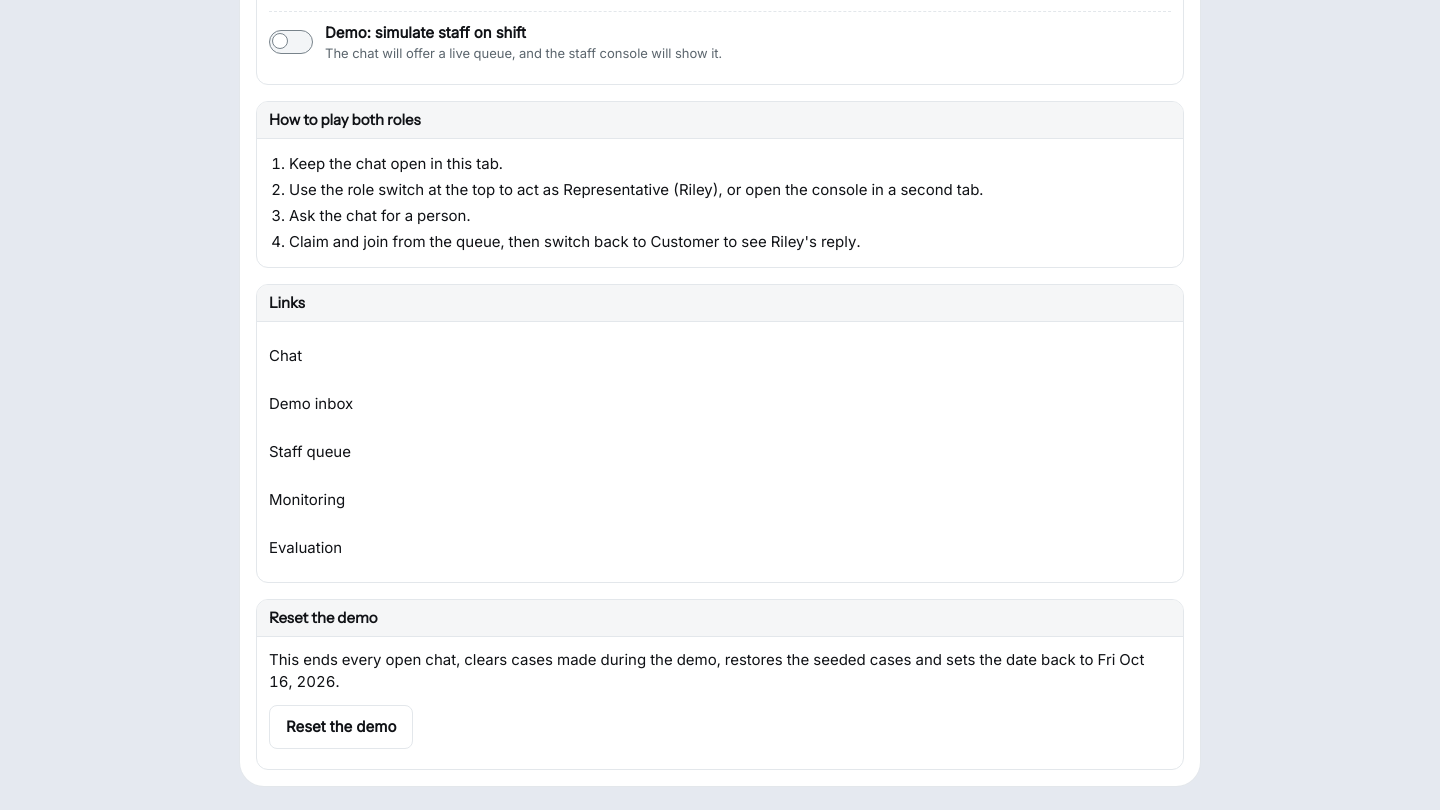
Test: Scr03 demo guide › reset failure: exact line, button enabled again
The width and height of the screenshot is (1440, 810).
(page scrolled)
Click the button "Reset the demo". click: (341,727)
box: [269,705,413,749]
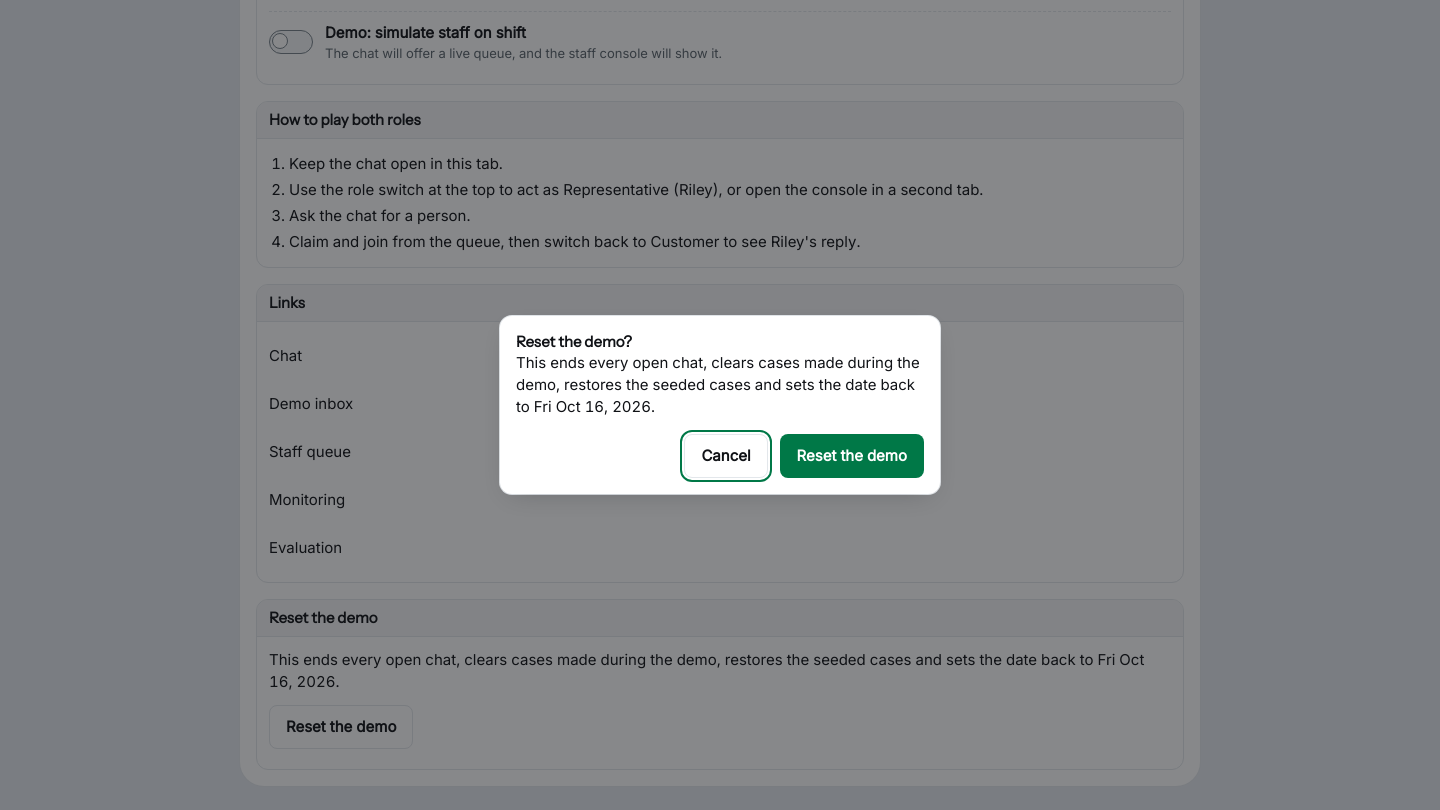
Click the button "Reset the demo". click: (852,456)
box: [780,434,924,478]
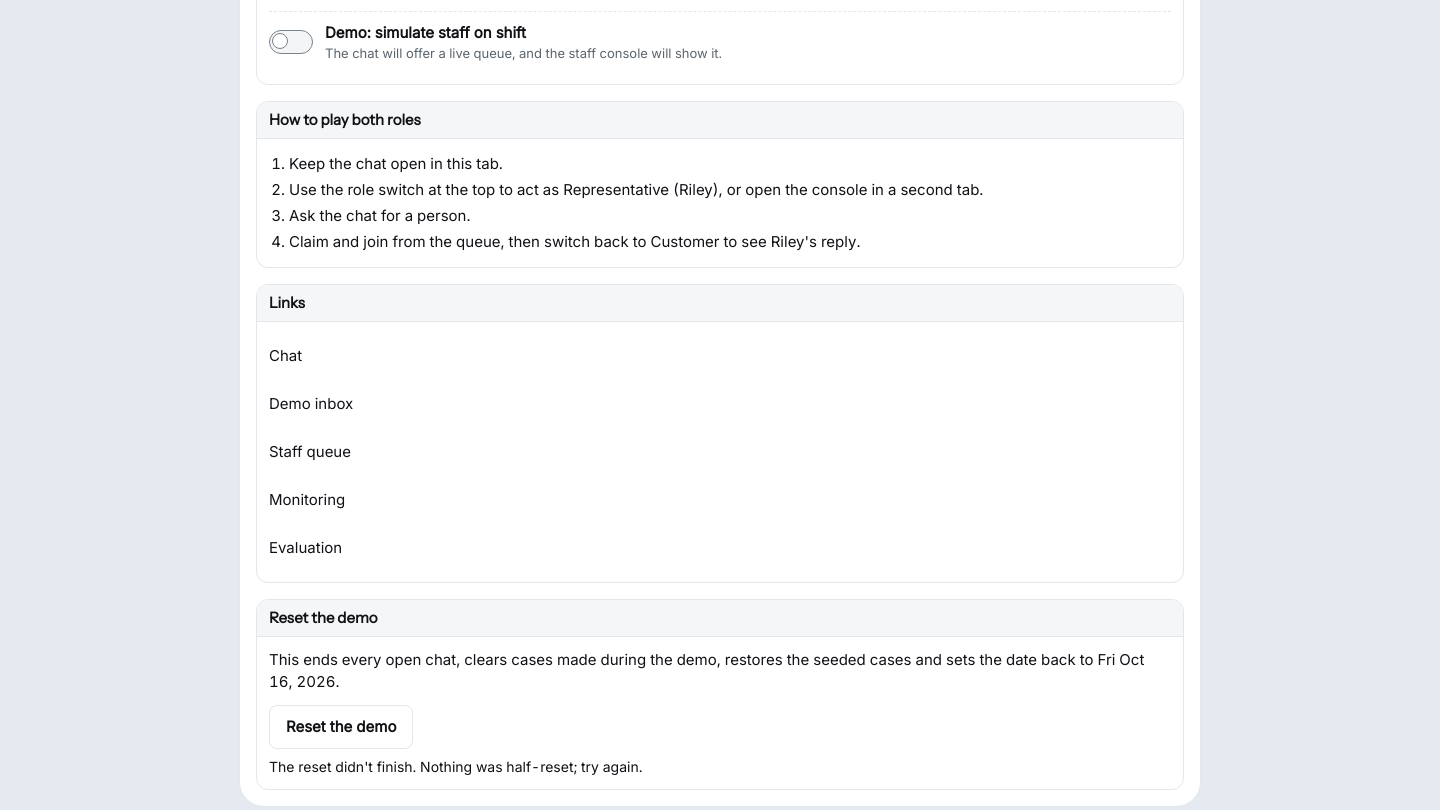
Expected: the button "Reset the demo" is enabled, [269,705,413,749]
Now the text "The reset didn't finish. Nothing was half-reset; try again." is shown, box [269,758,642,775]
